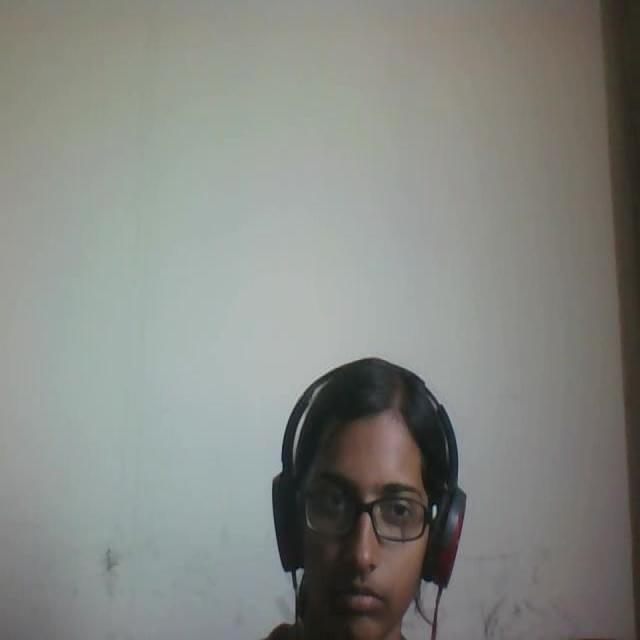Engaged: (259, 328, 478, 640)
